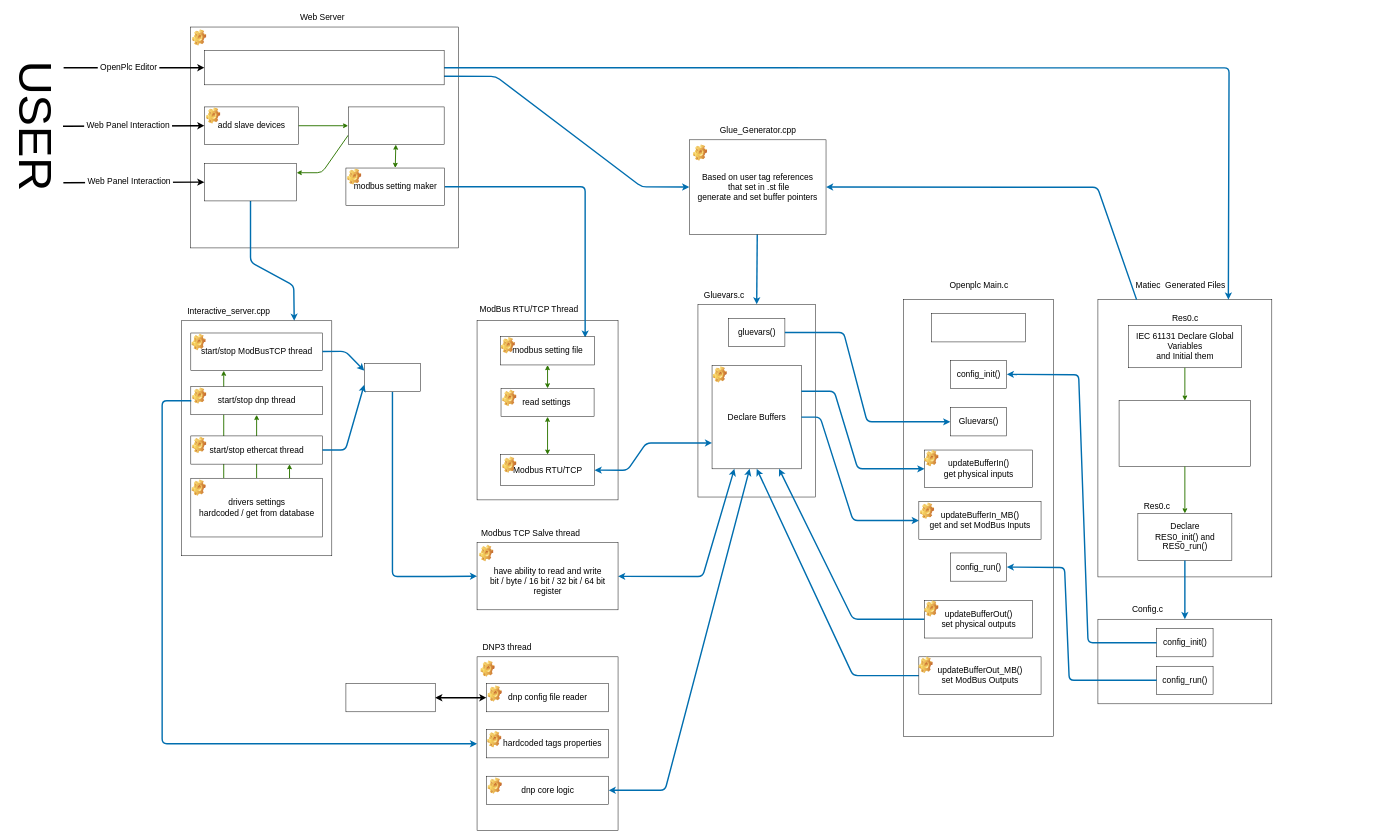
Some shapes in this 1395 by 839 pixel diagram are drawn without their labels. Each missing label, with the centre of its shape:
"database" goes at (396,125).
"dnp config file" goes at (390,697).
"IEC 61131 Codes, Global Variables and ... run in POUS.c POUS.h CONFIG0.c and ..." goes at (1185,433).
"Interactive Server Thread" goes at (978,327).
"server.c" goes at (392,377).
"start & stop protocol commander" goes at (250,182).
"upload and compile .st file" goes at (324,67).
